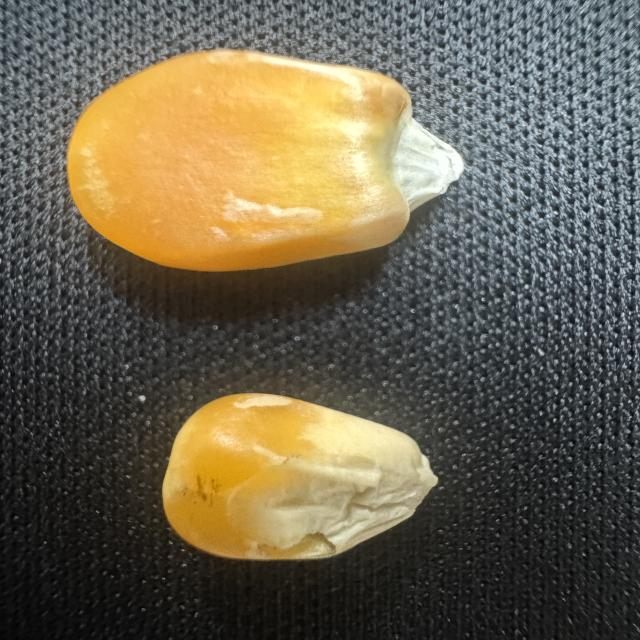Bad-Seed: (144, 383, 446, 582)
Good-Seed: (58, 34, 472, 274)
